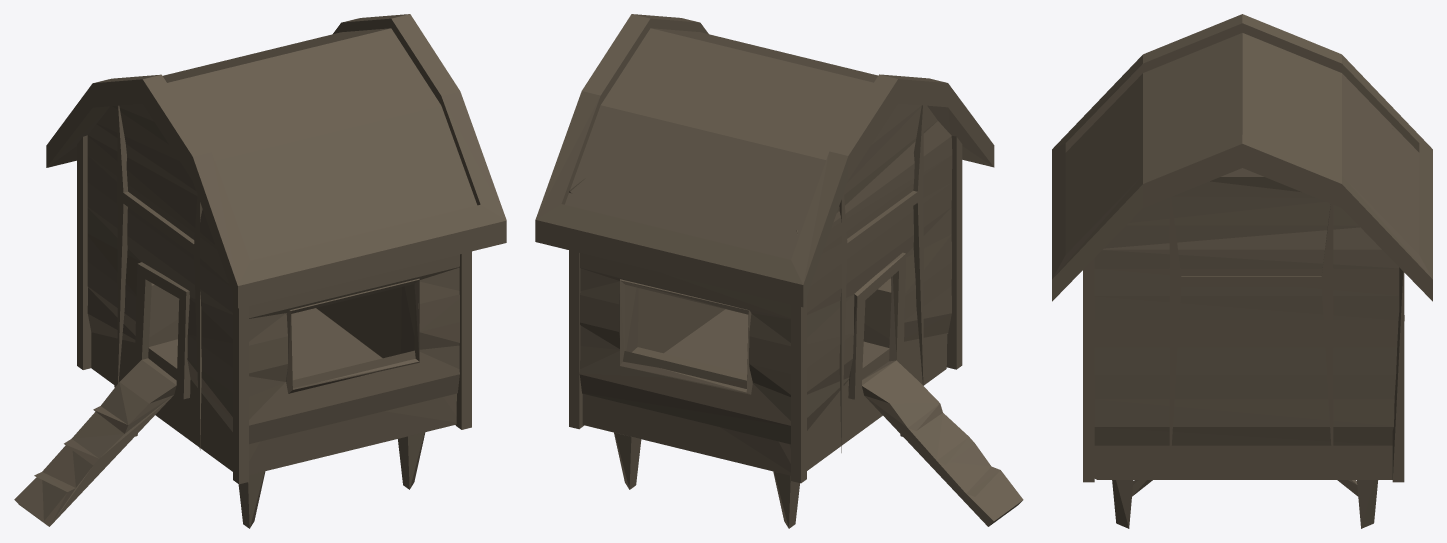
File: chicken-coop.lod1.glb
3 views of the same model, side by side, from view 1: azimuth 30°, elevation 25°; view 2: azimuth 150°, elevation 25°; view 3: azimuth 270°, elevation 25° (orthographic).
Parts seen in each view (by area): view 1: Object_3; view 2: Object_3; view 3: Object_3.
Boxes of the visible parts, <box> form: Object_3: <box>14,14,506,528</box>; Object_3: <box>535,14,1023,528</box>; Object_3: <box>1052,14,1432,528</box>.
Bounding box in the file's own units: 3.5 × 3.64 × 3.05.
